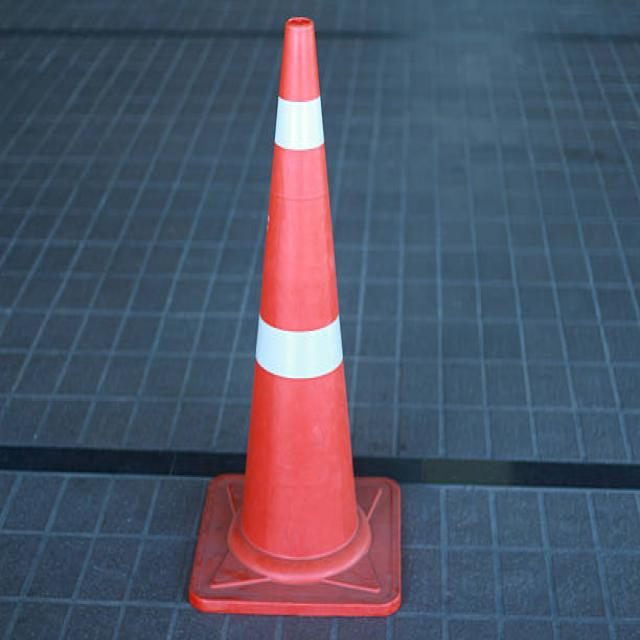Traffic Cone: (145, 0, 446, 640)
